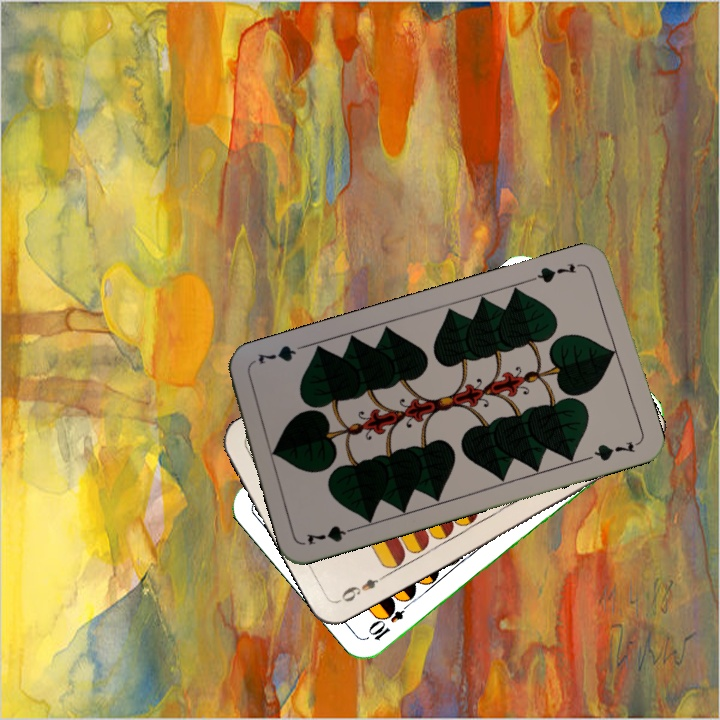E10: (365, 595, 415, 643)
E9: (334, 570, 389, 605)
G7: (302, 521, 361, 548), (528, 259, 586, 286)
